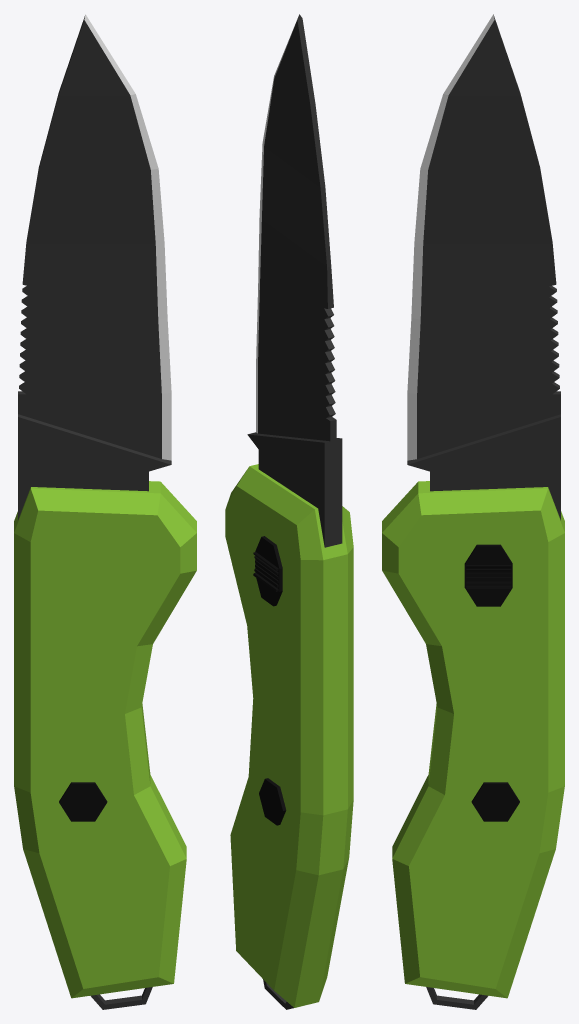
Rendered from Pocket Knife.fbx.
3 views of the same model, side by side, from view 1: azimuth 90°, elevation 25°; view 2: azimuth 210°, elevation 25°; view 3: azimuth 270°, elevation 25° (orthographic).
Parts seen in each view (by area): view 1: Pocket Knife; view 2: Pocket Knife; view 3: Pocket Knife.
Boxes of the visible parts, <box> form: Pocket Knife: <box>14,14,196,1009</box>; Pocket Knife: <box>225,14,353,1009</box>; Pocket Knife: <box>382,14,564,1009</box>.
Size of the model in its own units: 1.43 by 21.82 by 3.64.
